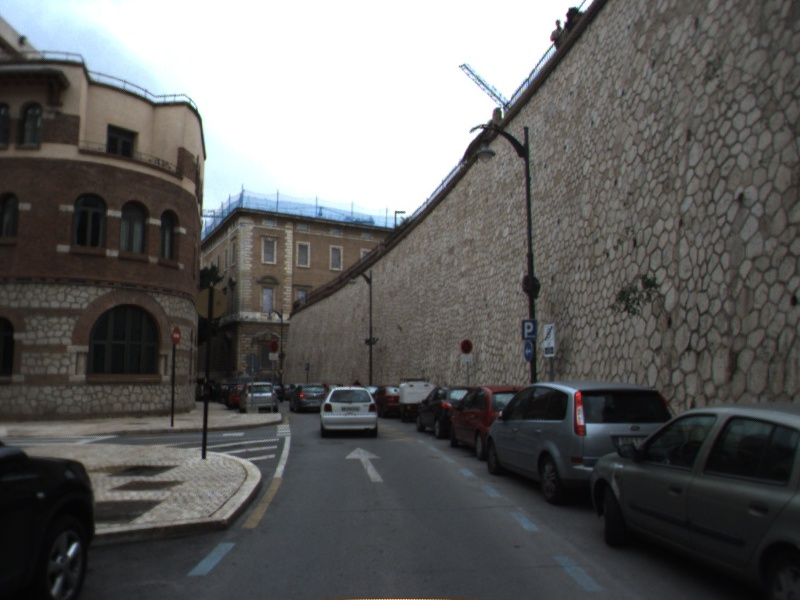STRAIGHT: (344, 445, 385, 484)
